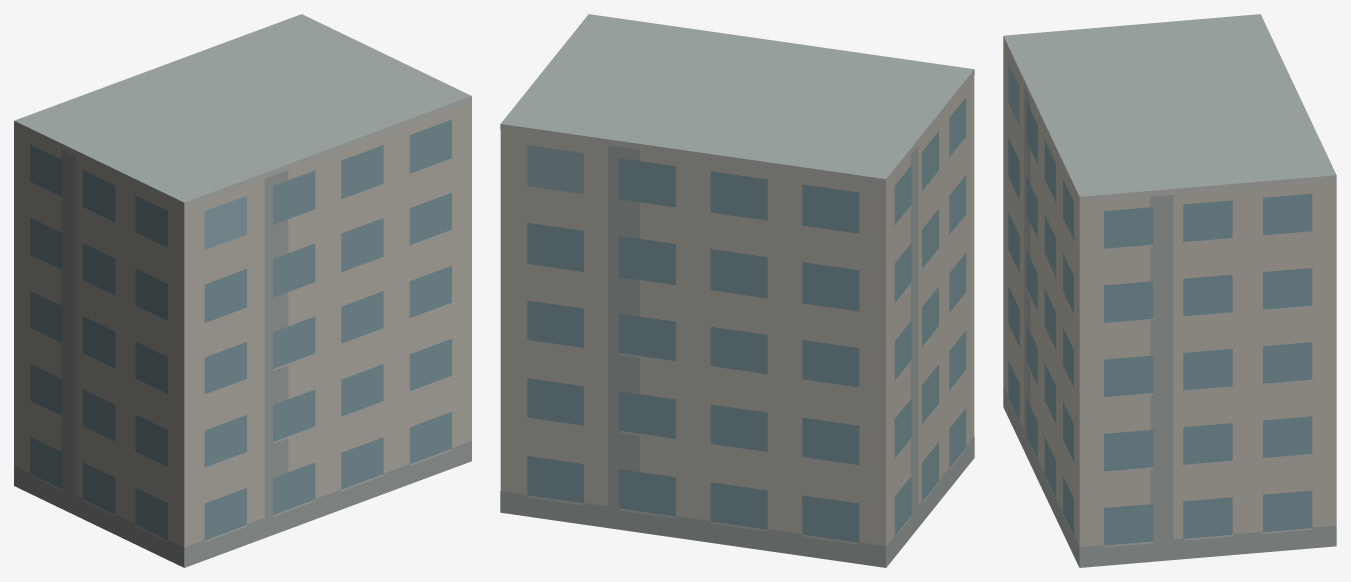
File: residential-b5567c5a-432b-4bb8-987d-99ea968733f4.glb
3 renders of one model, left to right at view 1: azimuth 30°, elevation 25°; view 2: azimuth 150°, elevation 25°; view 3: azimuth 270°, elevation 25°, orthographic. The views are drawn at different scales.
Parts seen in each view (by area): view 1: residential-b5567c5a-432b-4bb8-987d-99ea968733f4.tmp; view 2: residential-b5567c5a-432b-4bb8-987d-99ea968733f4.tmp; view 3: residential-b5567c5a-432b-4bb8-987d-99ea968733f4.tmp.
Boxes of the visible parts, x1,y1,x2,y2 form: residential-b5567c5a-432b-4bb8-987d-99ea968733f4.tmp: [14, 14, 471, 567]; residential-b5567c5a-432b-4bb8-987d-99ea968733f4.tmp: [500, 14, 974, 567]; residential-b5567c5a-432b-4bb8-987d-99ea968733f4.tmp: [1003, 14, 1336, 567].
Size of the model in its own units: 16.12 by 15.25 by 12.42.
